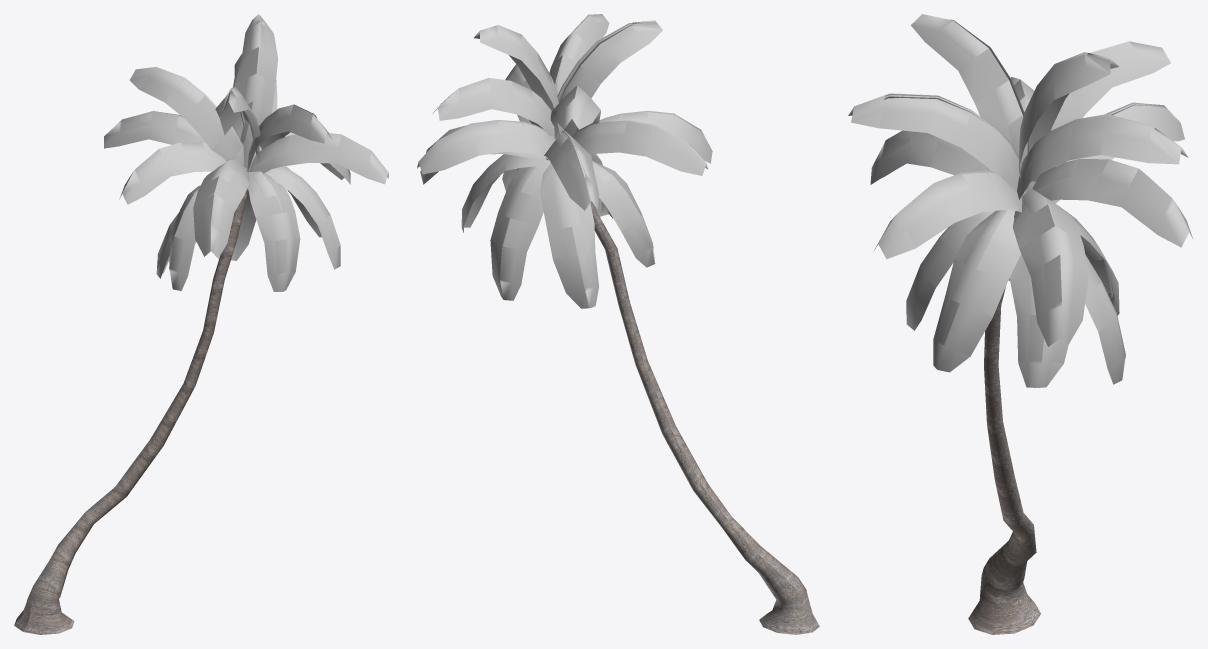
File: palm2.dae
3 views of the same model, side by side, from view 1: azimuth 30°, elevation 25°; view 2: azimuth 150°, elevation 25°; view 3: azimuth 270°, elevation 25° (orthographic). The views are drawn at different scales.
Parts seen in each view (by area): view 1: palm2; view 2: palm2; view 3: palm2.
Boxes of the visible parts, left/top/right/bottom form: palm2: left=14, top=14, right=388, bottom=634; palm2: left=417, top=14, right=819, bottom=634; palm2: left=848, top=14, right=1193, bottom=634.
Size of the model in its own units: 232 by 331 by 141.
